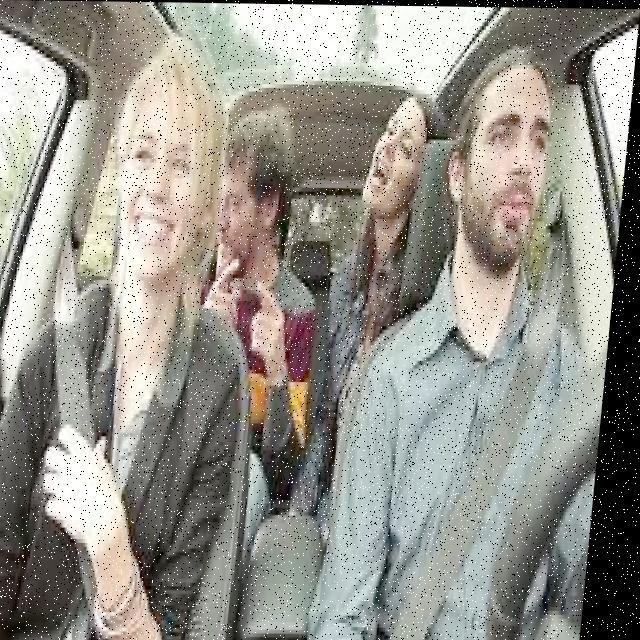seatbelt: (20, 305, 239, 640), (372, 300, 580, 640)
